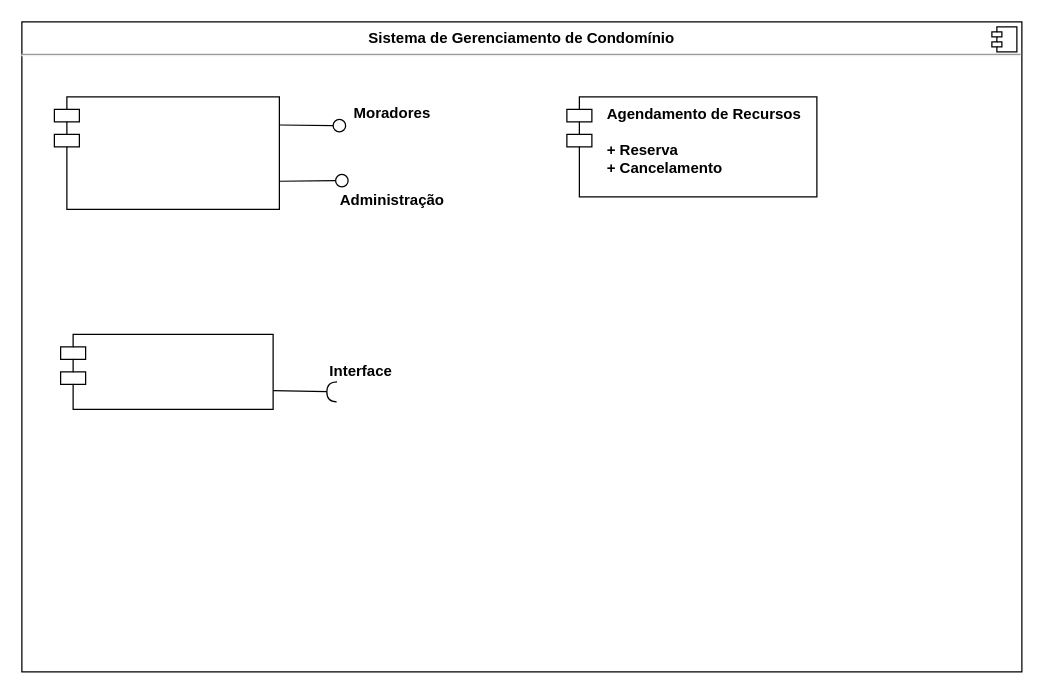
Some shapes in this 1044 by 694 pixel diagram are drawn without their labels. Here are the shapes that lost their labels. From the top down, the centre of each, then its label:
(166,152): Modulo de Comunicação + Mensagens + Notificações + Anúncios
(166,371): Gestão Financeira + Registro de Despesas
